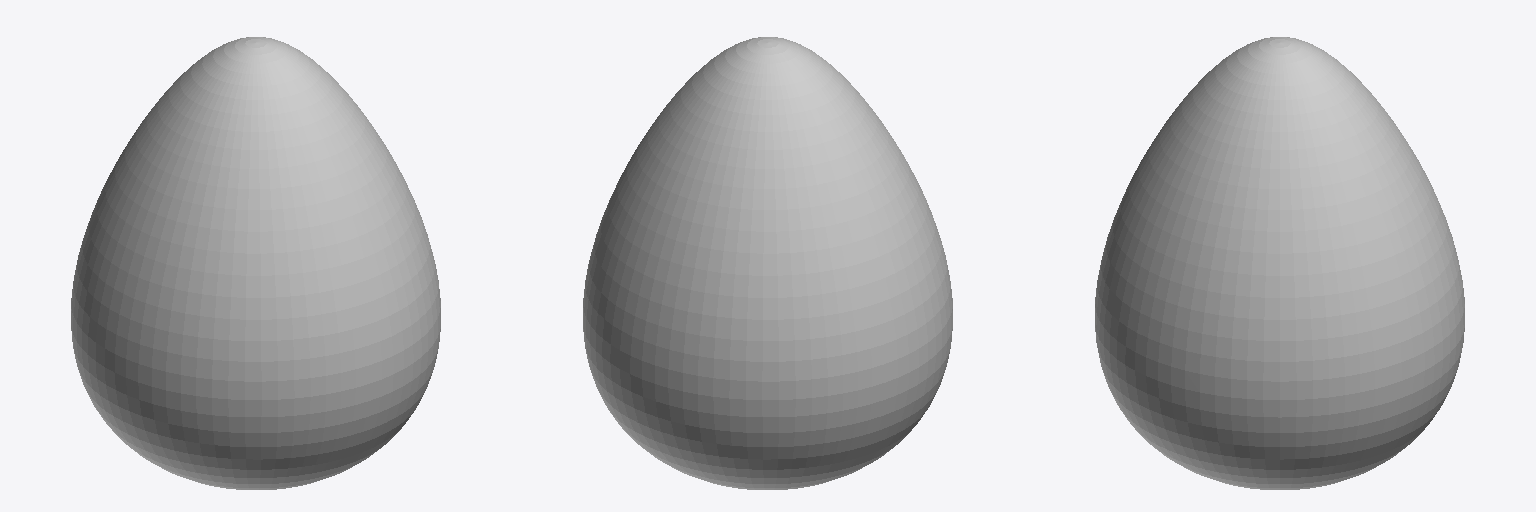
The model's file is eggs.obj.
The picture shows the model from 3 angles: view 1: azimuth 30°, elevation 25°; view 2: azimuth 150°, elevation 25°; view 3: azimuth 270°, elevation 25°; orthographic projection.
Parts seen in each view (by area): view 1: Sfera_2_Untitled; view 2: Sfera_2_Untitled; view 3: Sfera_2_Untitled.
Boxes of the visible parts, <box> form: Sfera_2_Untitled: <box>71,37,440,489</box>; Sfera_2_Untitled: <box>583,37,952,489</box>; Sfera_2_Untitled: <box>1095,37,1464,489</box>.
Bounding box in the file's own units: 1.57 × 2 × 1.57.